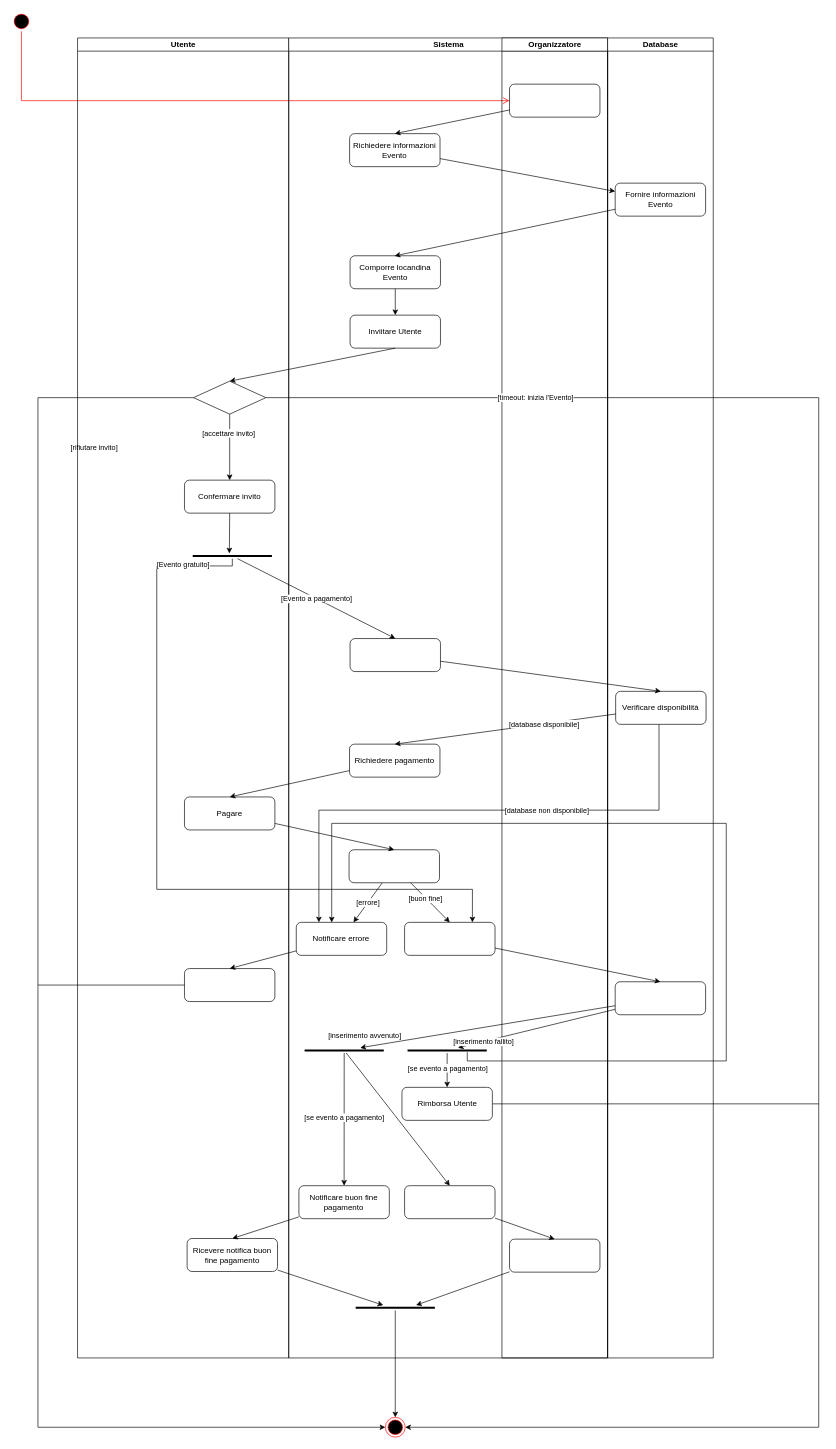
This 836x1449 diagram has some shape labels left out. Here are the shapes that lost their labels. From the top down, the centre of each, then its label:
point 554,100: Invitare Utente
point 394,655: Richiedere disponibilità database
point 393,866: Verificare buon fine Pagameto
point 449,938: Query inserimento in database
point 229,985: Ricevere notifica errore
point 660,998: Tenta inserimento
point 449,1202: Notificare iscrizione
point 554,1255: Ricevere notifica iscrizione
